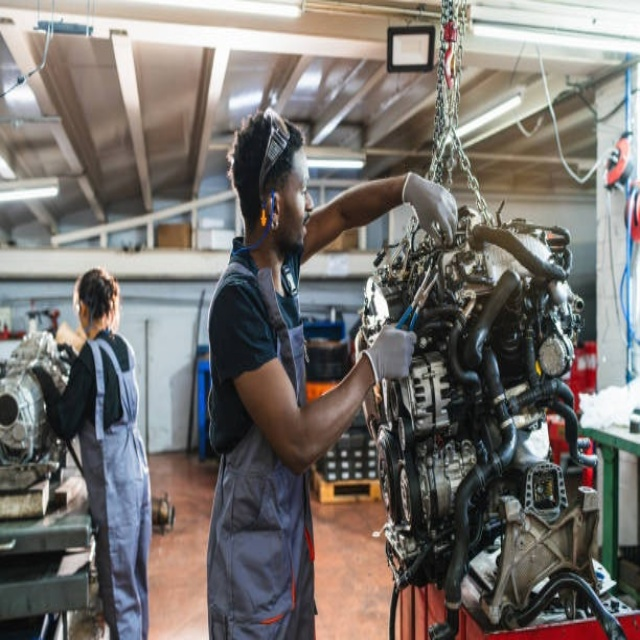Guantes: (402, 171, 458, 247), (362, 325, 416, 385)
Sin_gafas: (278, 165, 313, 202)
Sin_mascara: (287, 209, 313, 245)
